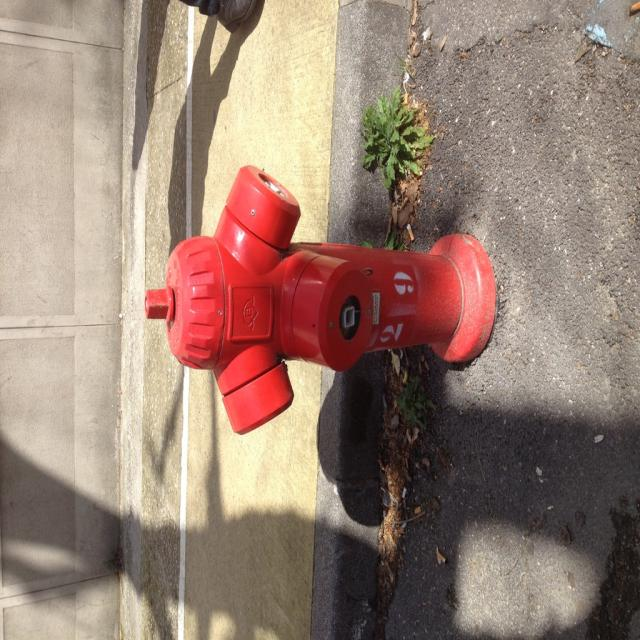fire_hydrant: (143, 166, 496, 431)
